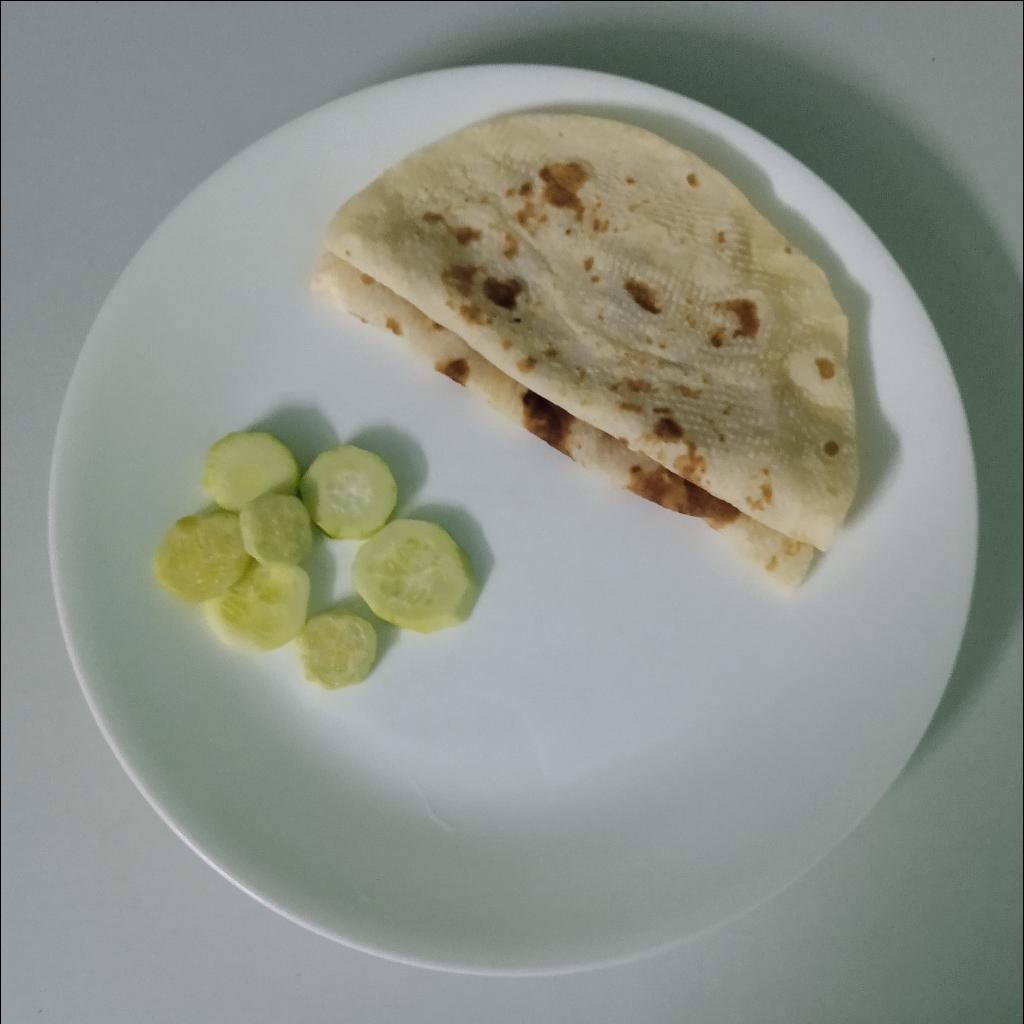cucumber: (154, 427, 481, 697)
ruti: (309, 108, 865, 583)
